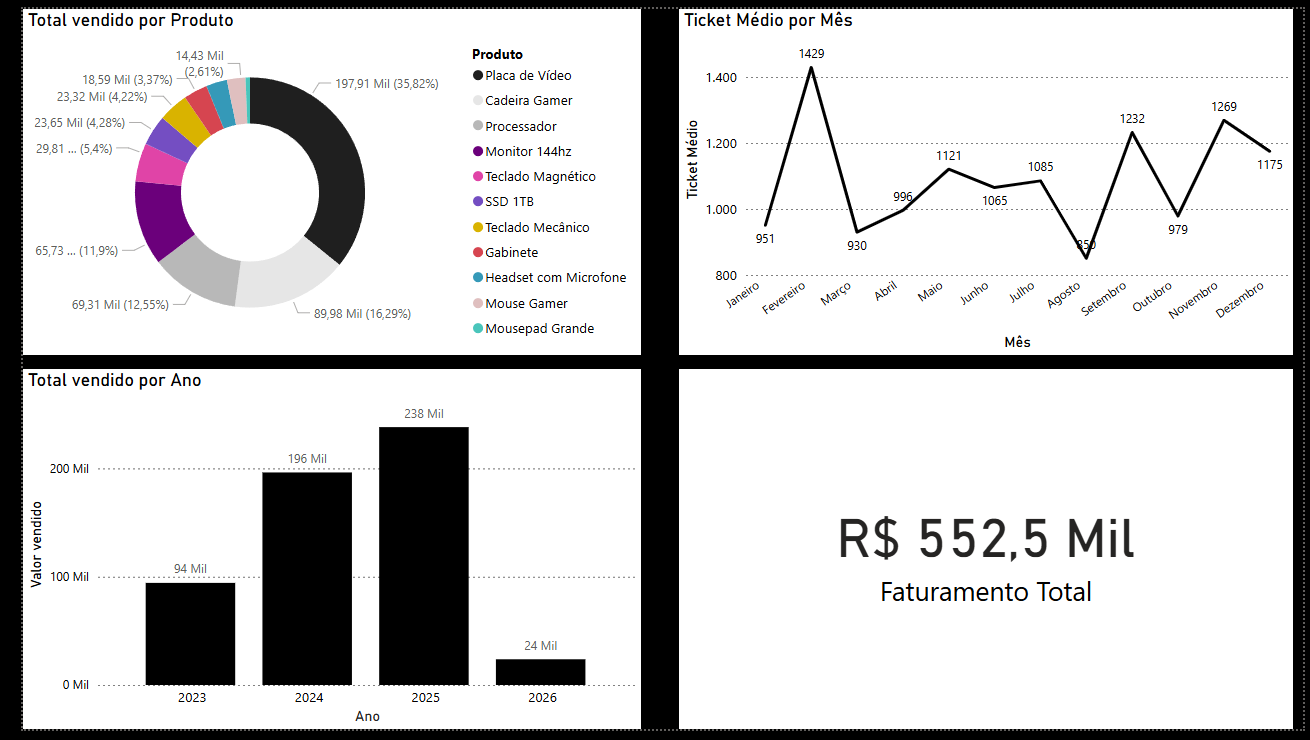

The page's visual inventory and layout, read from the dashboard file:
{"tool":"powerbi","page":{"name":"Dashboard-PDV","canvas":[1280,720],"ordinal":0},"visuals":[{"type":"donutChart","title":"Total vendido por Produto","fields":{"Category":["ponto_de_venda vendas.produto"],"Y":["Sum(ponto_de_venda vendas.total)"]},"box":[0,0,618,346],"z":0},{"type":"clusteredColumnChart","title":"Total vendido por Ano","fields":{"Category":["ponto_de_venda vendas.data_venda.Variation.Hierarquia de datas.Ano"],"Y":["Sum(ponto_de_venda vendas.total)"]},"box":[0,360,617.5,360],"z":1000},{"type":"card","fields":{"Values":["Sum(ponto_de_venda vendas.total)"]},"box":[655.6,360,614.8,360],"z":2000},{"type":"lineChart","title":"Ticket Médio por Mês","fields":{"Y":["ponto_de_venda vendas.Ticket Medio"],"Category":["ponto_de_venda vendas.nome_mes"]},"box":[656,0,614,346],"z":3000}]}

Visuals, with their boxes in screenshot pixels (x1, y1, x2, y2), scaled from the page's 1280x720 canvas onto the 1310x740 screenshot:
"Total vendido por Produto" donutChart: (left=0, top=0, right=632, bottom=356)
"Total vendido por Ano" clusteredColumnChart: (left=0, top=370, right=632, bottom=739)
card - Sum(ponto_de_venda vendas.total): (left=671, top=370, right=1300, bottom=739)
"Ticket Médio por Mês" lineChart: (left=671, top=0, right=1300, bottom=356)
